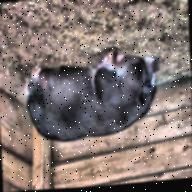boar: (23, 44, 162, 146)
